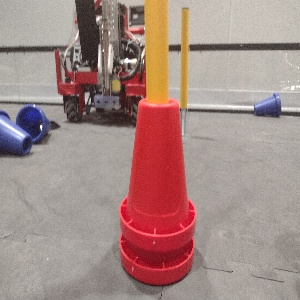Blue_1: (0, 110, 35, 157), (14, 105, 52, 138), (251, 90, 281, 117)
Red_2: (117, 95, 197, 286)
